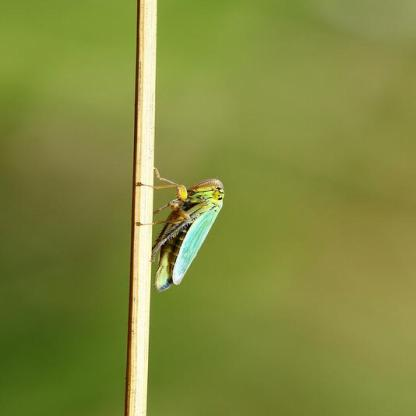Green-Leafhopper: (145, 164, 227, 300)
